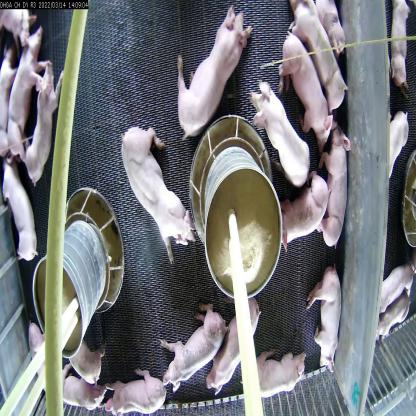Pig: (172, 0, 246, 133), (122, 125, 192, 260), (252, 82, 315, 187), (280, 27, 334, 145), (291, 0, 343, 121), (2, 32, 46, 162), (167, 307, 225, 394), (207, 313, 269, 390), (251, 340, 312, 416), (23, 76, 67, 175), (317, 130, 349, 251), (307, 260, 341, 370), (0, 166, 38, 256), (98, 366, 166, 416), (275, 180, 318, 242), (66, 333, 102, 379), (57, 374, 105, 394)
